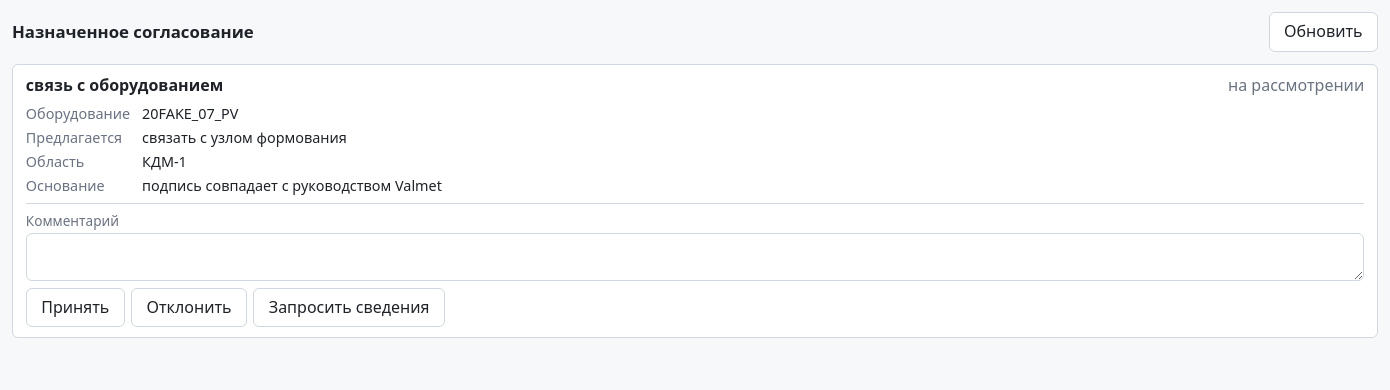
Test case: analytics_reviews_decide_403_shows_forbidden_text
The image size is (1390, 390).
Expected: the text "связать с узлом формования" is shown, [142,128,347,147]
Step 1. Click the button "Отклонить" → click(189, 308), box [131,288,247,328]
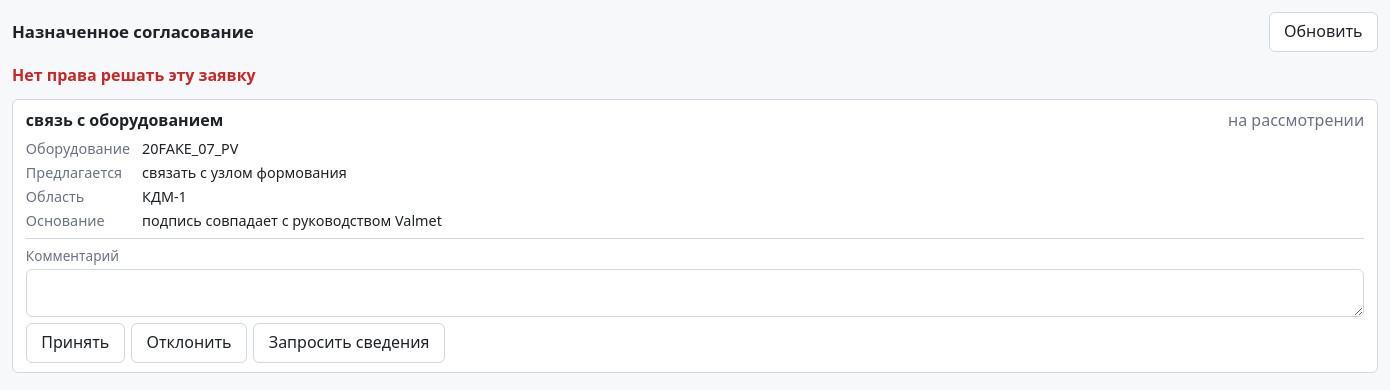
Expected: the message reads "Нет права решать эту заявку", [12,64,256,86]
